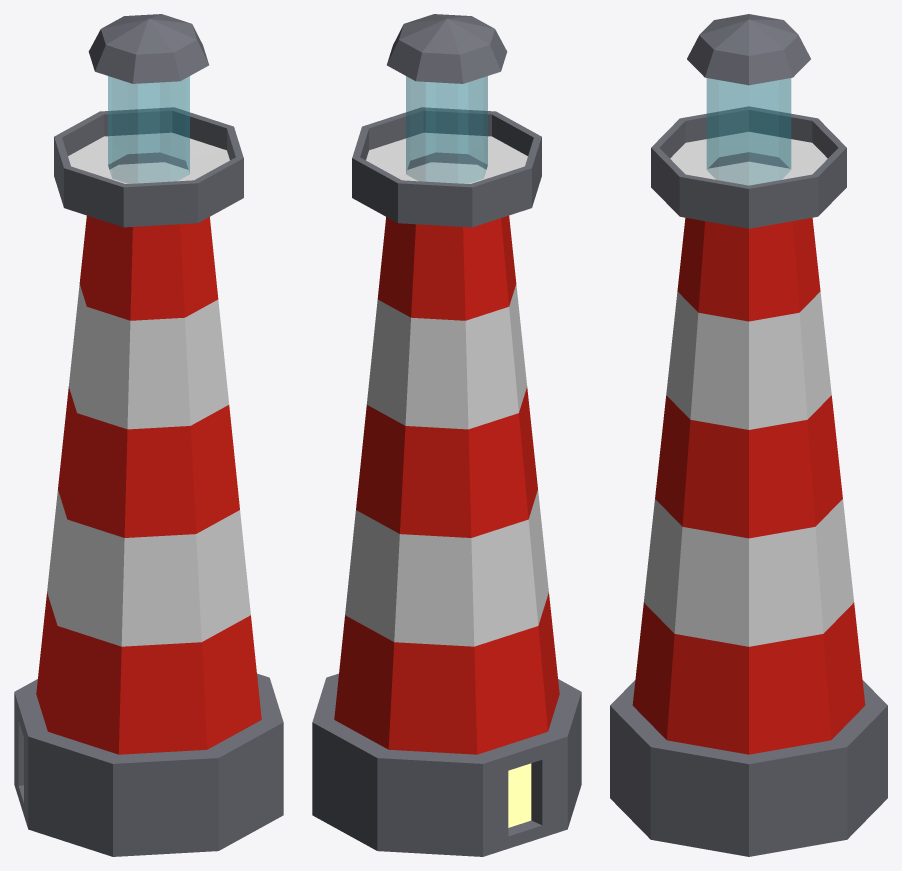
The model's file is red_lighthouse.fbx.
The picture shows the model from 3 angles, left to right: view 1: azimuth 30°, elevation 25°; view 2: azimuth 150°, elevation 25°; view 3: azimuth 270°, elevation 25°; orthographic projection.
Parts seen in each view (by area): view 1: PHARE ROUGE; view 2: PHARE ROUGE; view 3: PHARE ROUGE.
Boxes of the visible parts, x1,y1,x2,y2 form: PHARE ROUGE: [14, 14, 283, 856]; PHARE ROUGE: [312, 14, 581, 856]; PHARE ROUGE: [610, 14, 887, 856].
Bounding box in the file's own units: 194 × 600 × 194.
